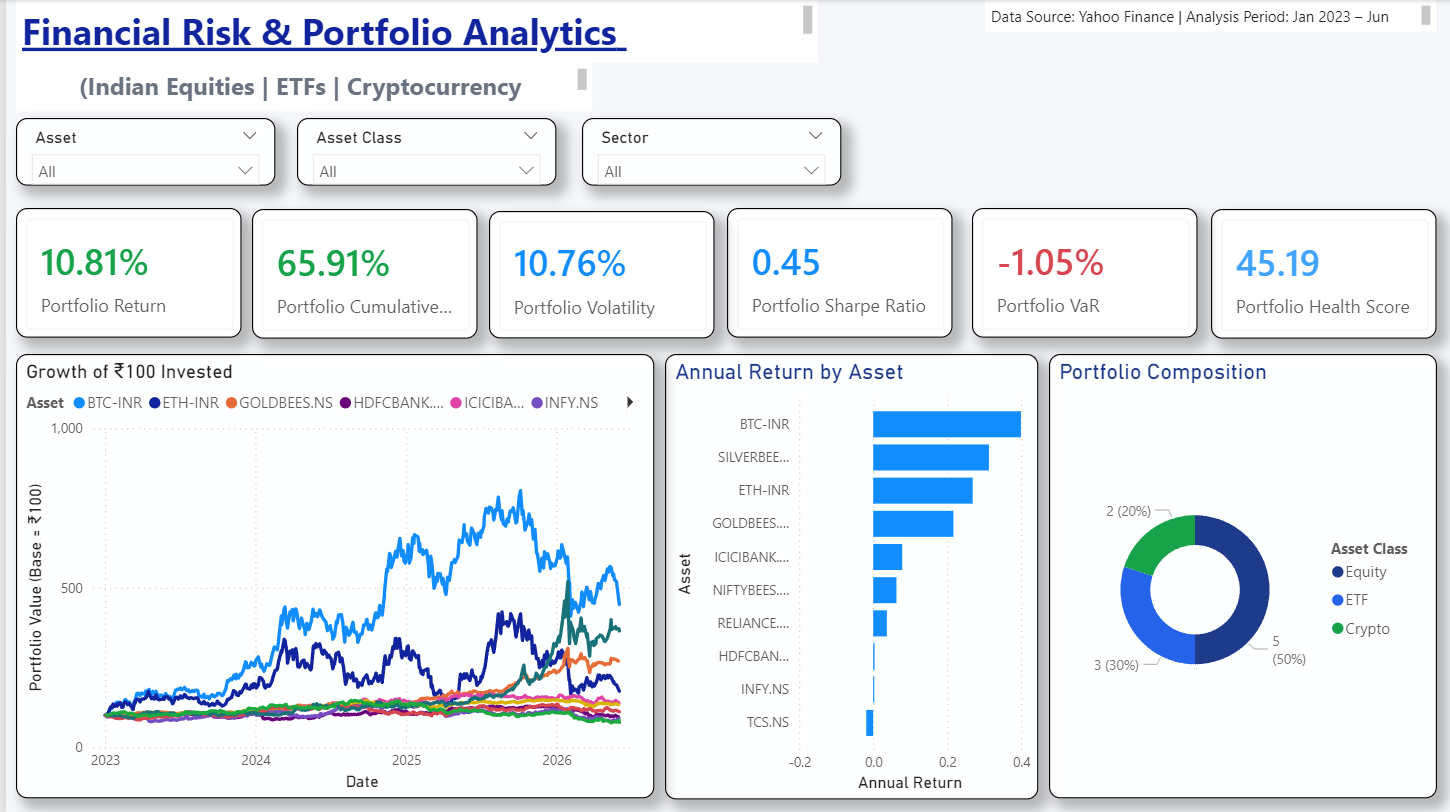

What the dashboard file says about the page in this screenshot:
{"tool":"powerbi","page":{"name":"Executive Dashboard","canvas":[1280,720],"ordinal":0},"visuals":[{"type":"textbox","box":[9.2,0,711.3,56.2],"z":0},{"type":"textbox","box":[9.2,56.2,511.2,43.1],"z":1000},{"type":"slicer","fields":{"Values":["asset_master.Asset"]},"box":[8.6,105,230,60],"z":2000},{"type":"slicer","fields":{"Values":["asset_master.Asset Class"]},"box":[258.5,104.6,230.1,60.1],"z":3000},{"type":"slicer","fields":{"Values":["asset_master.Sector"]},"box":[510.8,104.6,230.1,60.1],"z":4000},{"type":"cardVisual","fields":{"Data":["asset_master.Portfolio Return"]},"box":[9.2,184.4,200.1,115.1],"z":5000},{"type":"cardVisual","fields":{"Data":["asset_master.Portfolio Cumulative Return"]},"box":[218.3,185,200,115],"z":6000},{"type":"cardVisual","fields":{"Data":["asset_master.Portfolio Health Score"]},"box":[1068.3,185,200,115],"z":7000},{"type":"cardVisual","fields":{"Data":["asset_master.Portfolio Sharpe Ratio"]},"box":[639.4,184.4,200.1,115.1],"z":8000},{"type":"cardVisual","fields":{"Data":["asset_master.Portfolio VaR"]},"box":[856.4,184.4,200.1,115.1],"z":9000},{"type":"cardVisual","fields":{"Data":["asset_master.Portfolio Volatility"]},"box":[428.3,186.7,200,113.3],"z":10000},{"type":"clusteredBarChart","title":"Annual Return by Asset","fields":{"Category":["asset_master.Asset"],"Y":["Sum(risk_metrics.Annual Return)"]},"box":[584.5,313.8,330.8,394.9],"z":11000},{"type":"donutChart","title":"Portfolio Composition","fields":{"Y":["CountNonNull(asset_master.Asset)"],"Category":["asset_master.Asset Class"]},"box":[924.4,313.8,343.9,394],"z":12000},{"type":"lineChart","title":"Growth of ₹100 Invested","fields":{"Y":["Sum(normalized_prices.Normalized Price)"],"Category":["normalized_prices.Date"],"Series":["normalized_prices.Asset"]},"box":[9,314,566,394],"z":13000},{"type":"textbox","box":[868.3,0,400,28.3],"z":14000}]}

Visuals, with their boxes in screenshot pixels (x1, y1, x2, y2), scaled from the page's 1280x720 canvas onto the 1450x812 screenshot:
textbox: 10 0 816 63
textbox: 10 63 590 112
slicer - asset_master.Asset: 10 118 270 186
slicer - asset_master.Asset Class: 293 118 553 186
slicer - asset_master.Sector: 579 118 839 186
cardVisual - asset_master.Portfolio Return: 10 208 237 338
cardVisual - asset_master.Portfolio Cumulative Return: 247 209 474 338
cardVisual - asset_master.Portfolio Health Score: 1210 209 1437 338
cardVisual - asset_master.Portfolio Sharpe Ratio: 724 208 951 338
cardVisual - asset_master.Portfolio VaR: 970 208 1197 338
cardVisual - asset_master.Portfolio Volatility: 485 211 712 338
"Annual Return by Asset" clusteredBarChart: 662 354 1037 799
"Portfolio Composition" donutChart: 1047 354 1437 798
"Growth of ₹100 Invested" lineChart: 10 354 651 798
textbox: 984 0 1437 32
